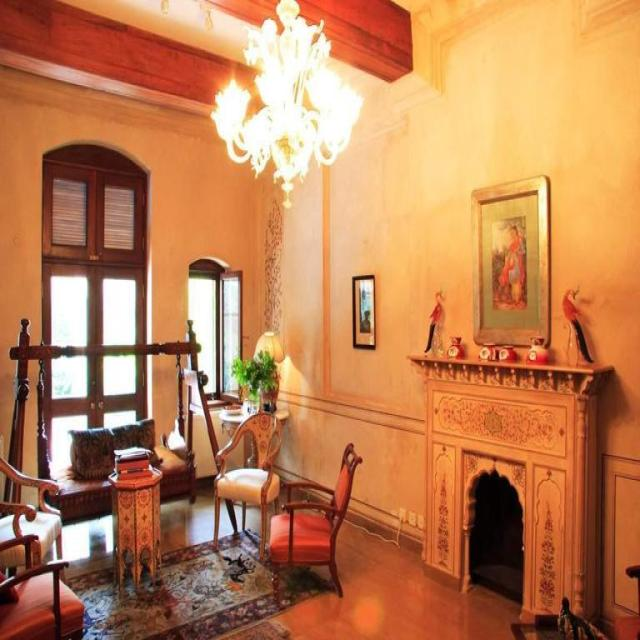chair: (268, 441, 362, 604)
cupboard: (407, 352, 613, 628)
plants: (230, 348, 280, 412)
rugs: (61, 526, 337, 639)
sofa: (43, 415, 197, 523)
table: (108, 464, 162, 591)
table-lamp: (253, 329, 285, 411)
window: (40, 140, 150, 479), (186, 258, 242, 407)
